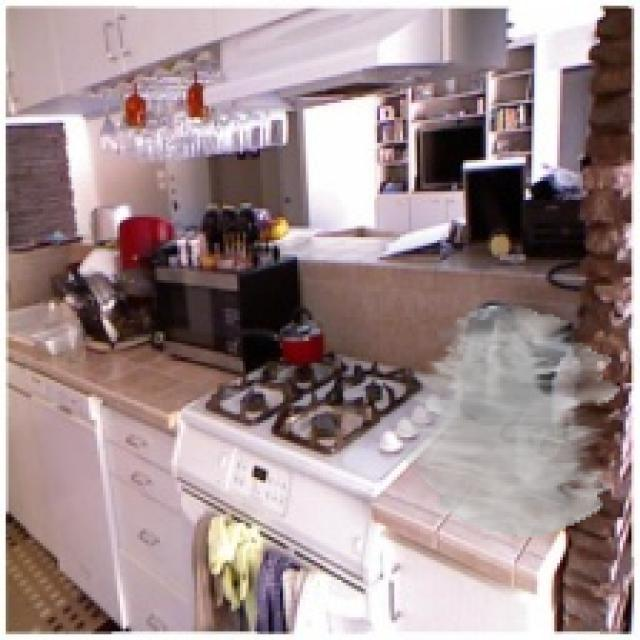smoke: (397, 306, 620, 537)
